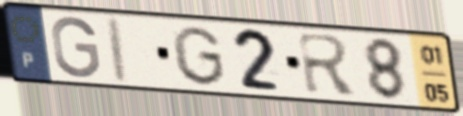2: (229, 26, 287, 95)
8: (361, 35, 409, 103)
G: (169, 23, 228, 88), (49, 14, 103, 81)
I: (107, 14, 132, 87)
R: (295, 30, 362, 97)
